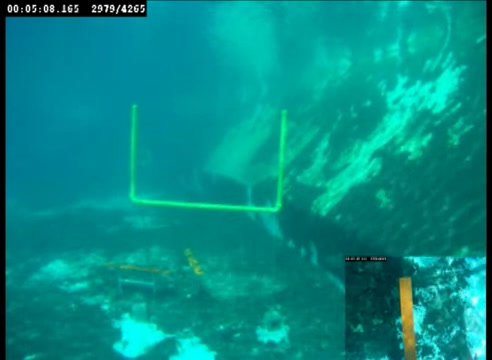channel: (123, 104, 289, 214)
